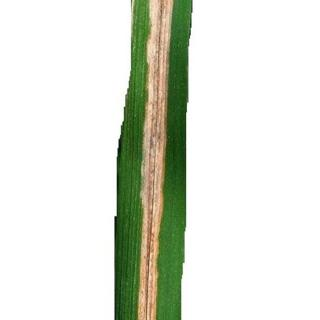Hawar-Daun: (137, 0, 169, 319)
